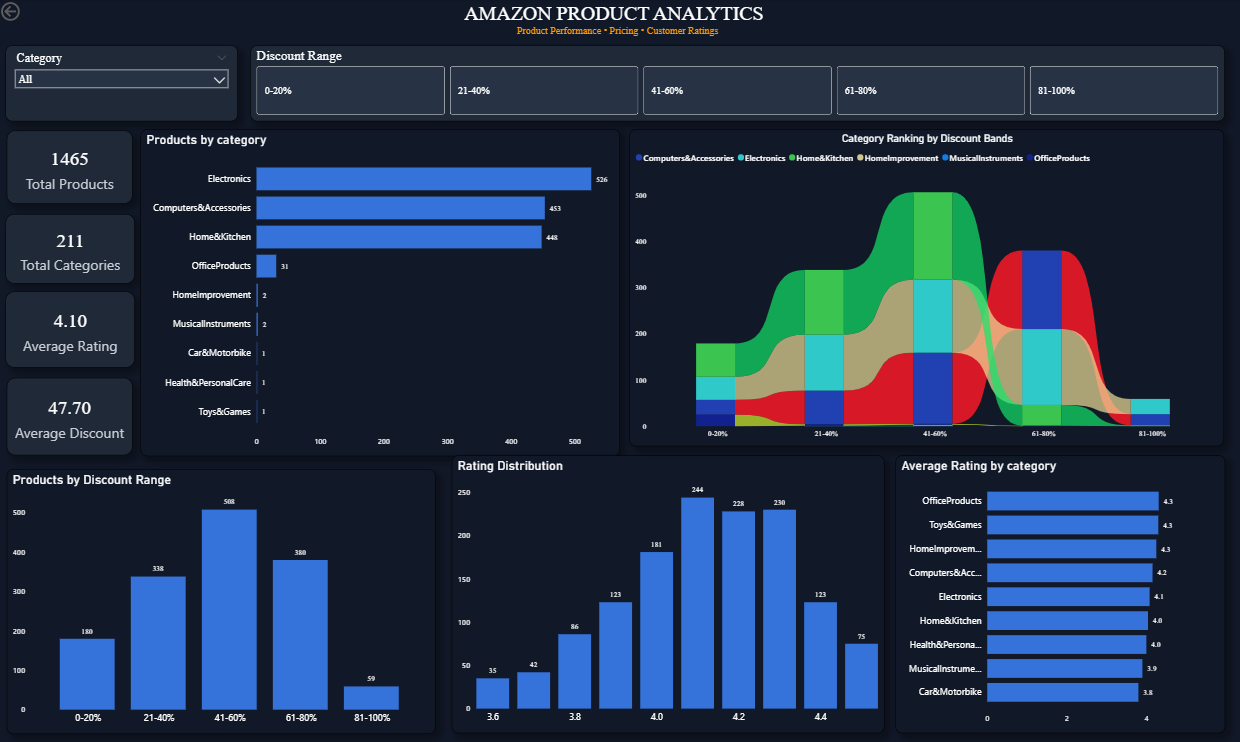

The dashboard page shown, as its layout file describes it:
{"tool":"powerbi","page":{"name":"Page 1","canvas":[2000,1200],"ordinal":0},"visuals":[{"type":"textbox","box":[0,0,1973.5,81.6],"z":0},{"type":"card","fields":{"Values":["amazon amazon_clean.Total Products"]},"box":[14.3,210.2,202,118.4],"z":1000},{"type":"card","fields":{"Values":["amazon amazon_clean.Total Categories"]},"box":[12.2,344.9,208.2,112.2],"z":2000},{"type":"card","fields":{"Values":["amazon amazon_clean.Average Rating"]},"box":[12.2,471.4,208.2,122.4],"z":3000},{"type":"card","fields":{"Values":["amazon amazon_clean.Average Discount"]},"box":[14.3,610.2,202,124.5],"z":4000},{"type":"barChart","title":"Products by category","fields":{"Y":["CountNonNull(amazon amazon_clean.product_id)"],"Category":["amazon amazon_clean.main_category"]},"box":[228.6,208.2,771.4,526.5],"z":6000},{"type":"clusteredColumnChart","title":"Rating Distribution","fields":{"Category":["amazon amazon_clean.rating"],"Y":["CountNonNull(amazon amazon_clean.product_name)"]},"box":[730.6,734.7,695.9,446.9],"z":7000},{"type":"actionButton","box":[0,0,100,40],"z":8000},{"type":"clusteredBarChart","title":"Average Rating by category","fields":{"Category":["amazon amazon_clean.main_category"],"Y":["Avg(amazon amazon_clean.rating)"]},"box":[1442.9,734.7,530.6,446.9],"z":9000},{"type":"clusteredColumnChart","title":"Products by Discount Range","fields":{"Y":["CountNonNull(amazon amazon_clean.product_id)"],"Category":["amazon amazon_clean.Discount Band"]},"box":[14.3,755.1,689.8,426.5],"z":10000},{"type":"ribbonChart","title":"Category Ranking by Discount Bands","fields":{"Category":["amazon amazon_clean.Discount Band"],"Y":["CountNonNull(amazon amazon_clean.product_id)"],"Series":["amazon amazon_clean.main_category"]},"box":[1016.3,208.2,957.1,510.2],"z":11000},{"type":"slicer","fields":{"Values":["amazon amazon_clean.main_category"]},"box":[12.2,73.5,373.5,122.4],"z":12000},{"type":"advancedSlicerVisual","title":"Discount Range","fields":{"Values":["amazon amazon_clean.Discount Band"]},"box":[406.1,73.5,1567.3,122.4],"z":13000}]}

Visuals, with their boxes in screenshot pixels (x1, y1, x2, y2), scaled from the page's 2000x1200 canvas onto the 1240x742 screenshot:
textbox: x1=0, y1=0, x2=1224, y2=50
card - amazon amazon_clean.Total Products: x1=9, y1=130, x2=134, y2=203
card - amazon amazon_clean.Total Categories: x1=8, y1=213, x2=137, y2=283
card - amazon amazon_clean.Average Rating: x1=8, y1=291, x2=137, y2=367
card - amazon amazon_clean.Average Discount: x1=9, y1=377, x2=134, y2=454
"Products by category" barChart: x1=142, y1=129, x2=620, y2=454
"Rating Distribution" clusteredColumnChart: x1=453, y1=454, x2=884, y2=731
actionButton: x1=0, y1=0, x2=62, y2=25
"Average Rating by category" clusteredBarChart: x1=895, y1=454, x2=1224, y2=731
"Products by Discount Range" clusteredColumnChart: x1=9, y1=467, x2=437, y2=731
"Category Ranking by Discount Bands" ribbonChart: x1=630, y1=129, x2=1224, y2=444
slicer - amazon amazon_clean.main_category: x1=8, y1=45, x2=239, y2=121
"Discount Range" advancedSlicerVisual: x1=252, y1=45, x2=1224, y2=121
